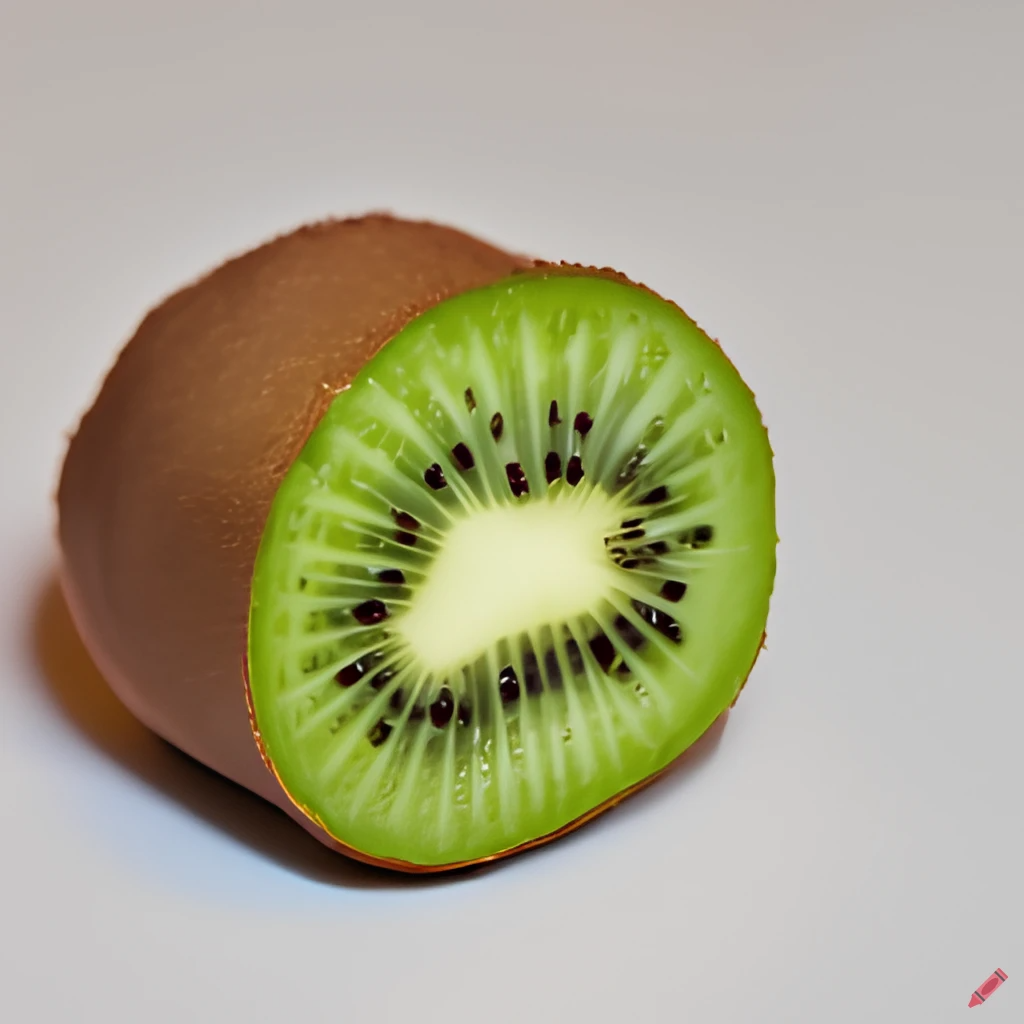Kiwi: (9, 162, 812, 892)
